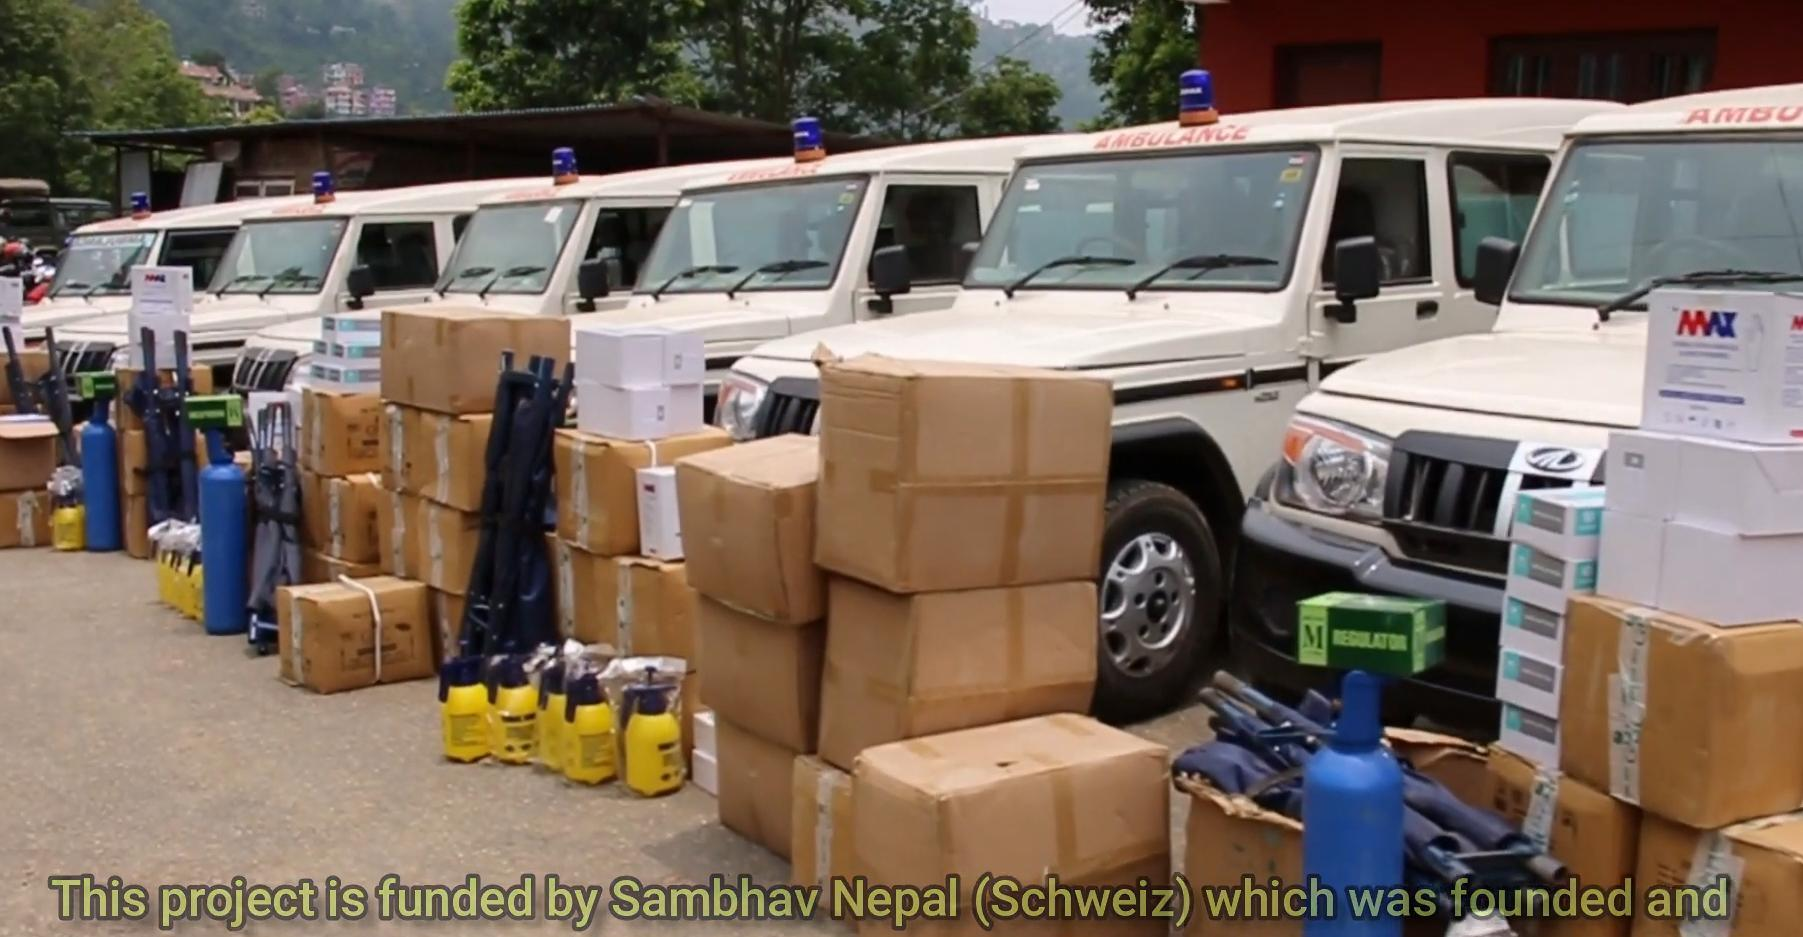ambulance: (715, 64, 1517, 710), (564, 111, 986, 507)
